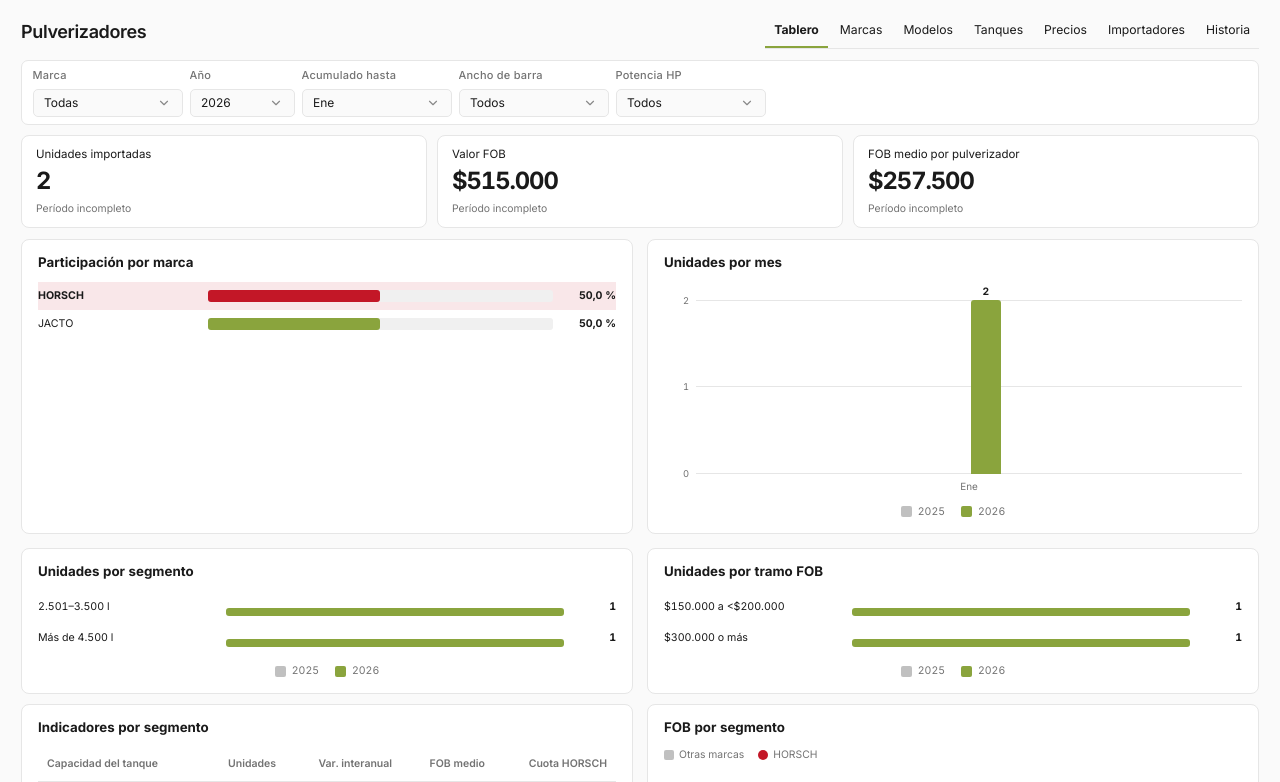
Test: abre la banda de tanque de Pulverizadores con el FOB y la referencia HORSCH
The image size is (1280, 782).
Expected: the text "Ancho de barra" is shown, [458,68,543,82]
Click the link "Tanques" at [998, 30], box [974,22,1023,37]
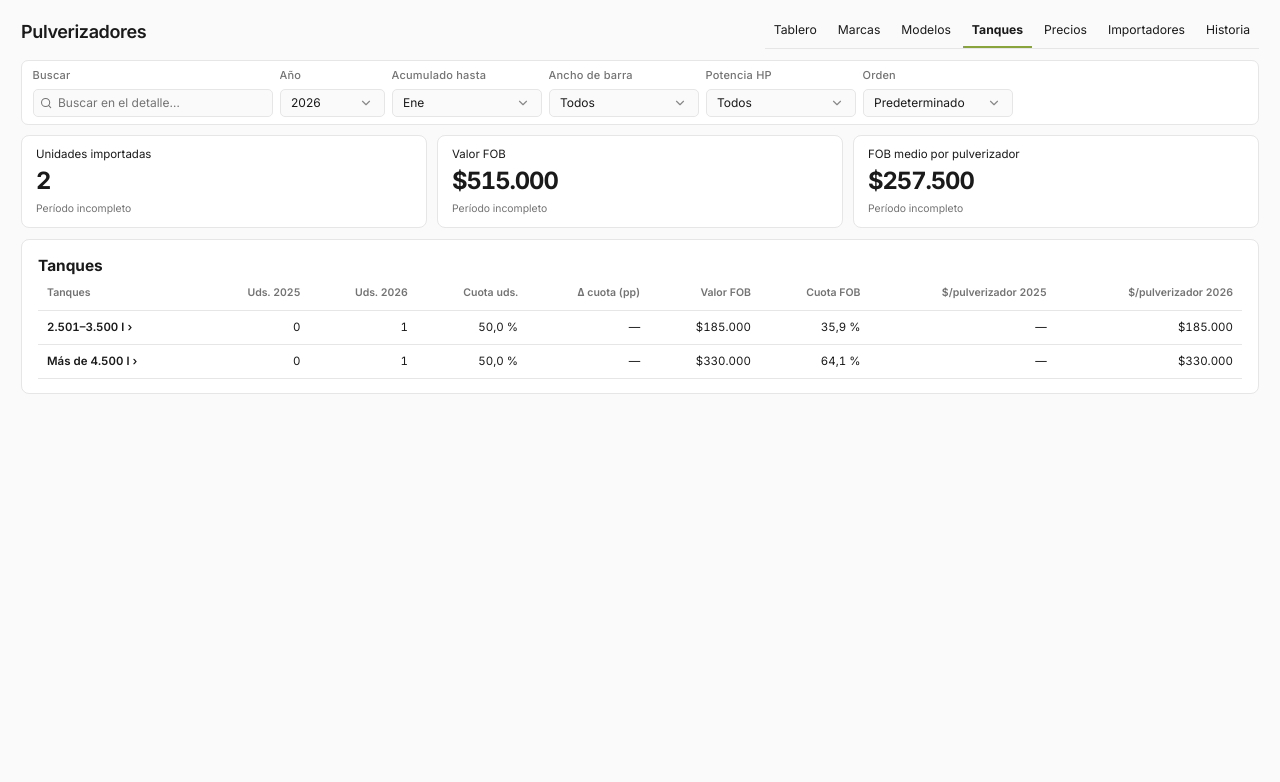
Click the link "Más de 4.500 l ›" at [88, 361], box [47,354,137,368]
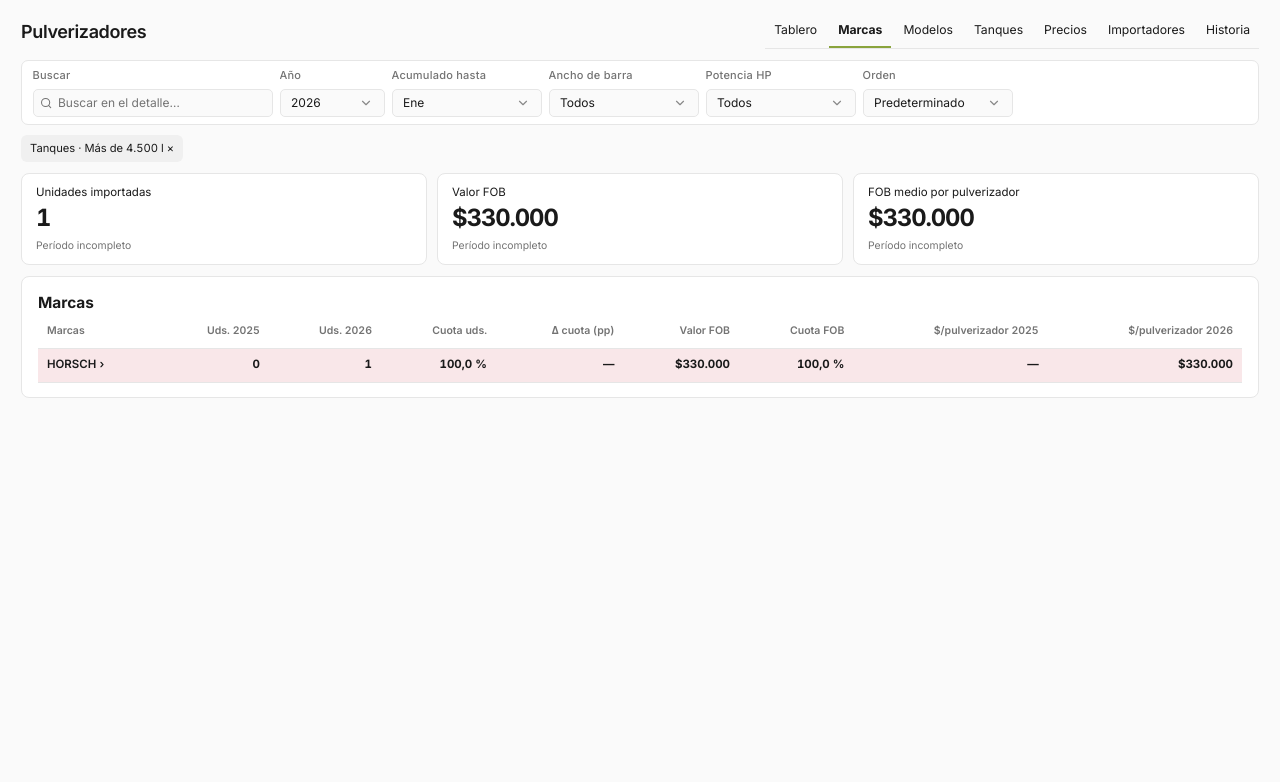
Expected: the link "HORSCH ›" is shown, [47,357,104,371]
